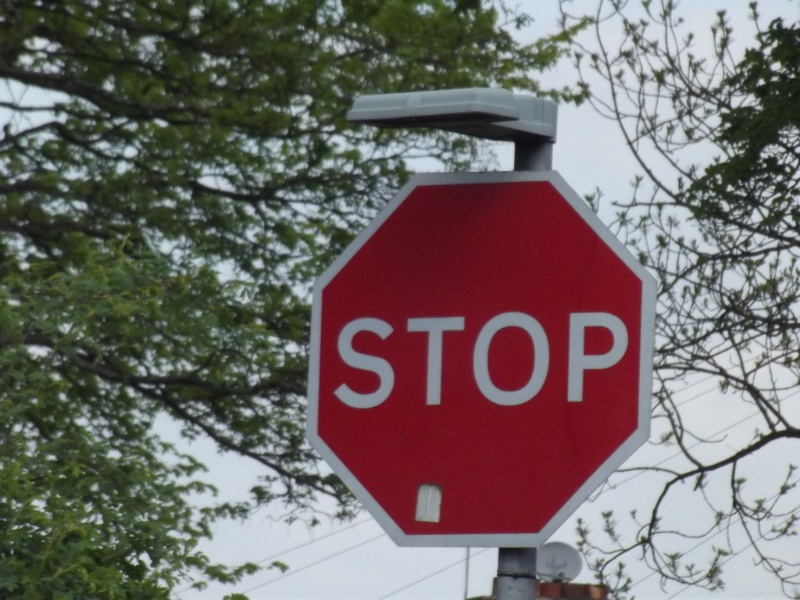stop: (297, 159, 673, 557)
